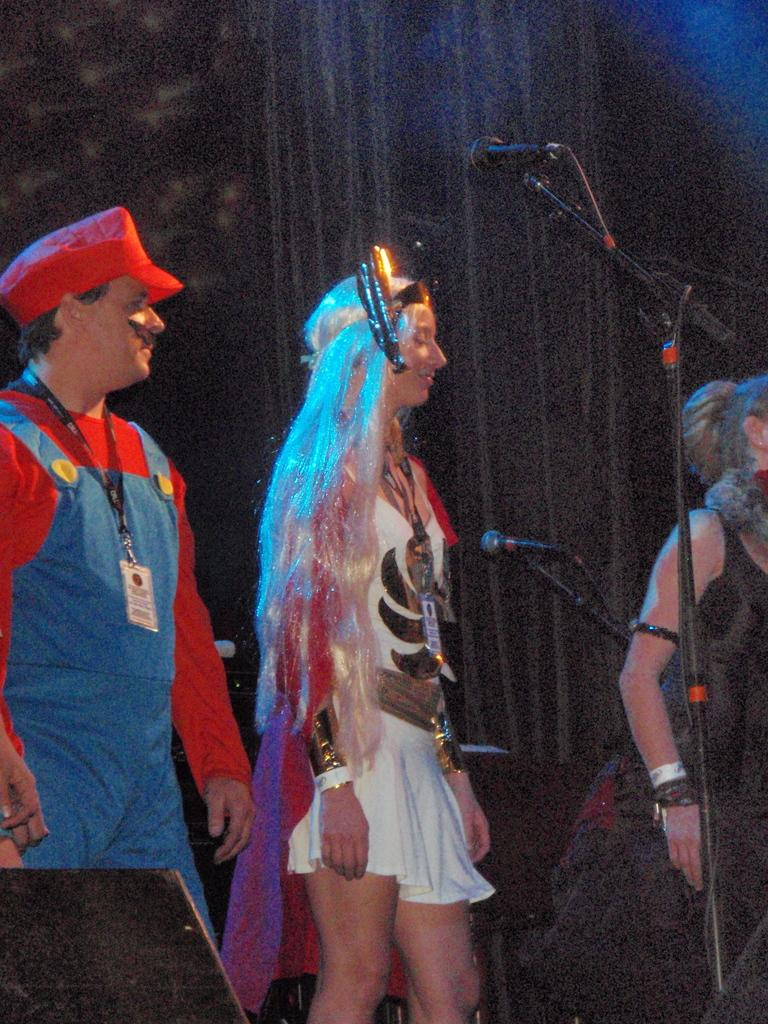Hat: (0, 205, 183, 324)
